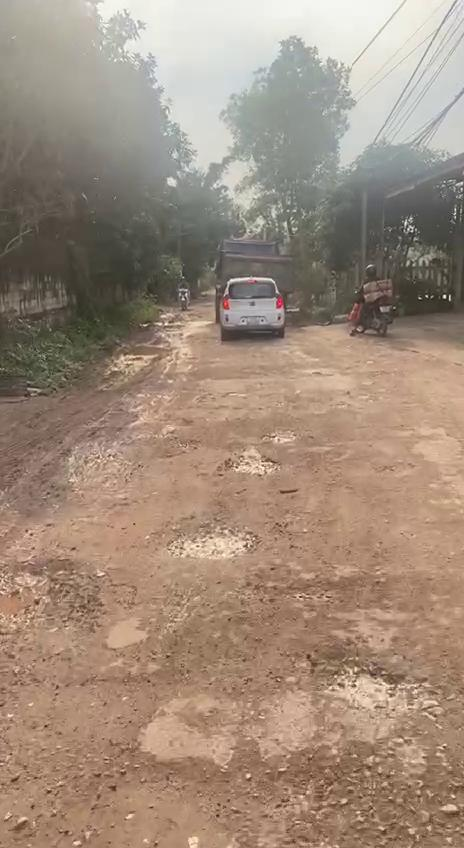pothole: (0, 550, 112, 634), (326, 654, 432, 722), (162, 522, 262, 564), (220, 449, 281, 481), (262, 428, 302, 446)
